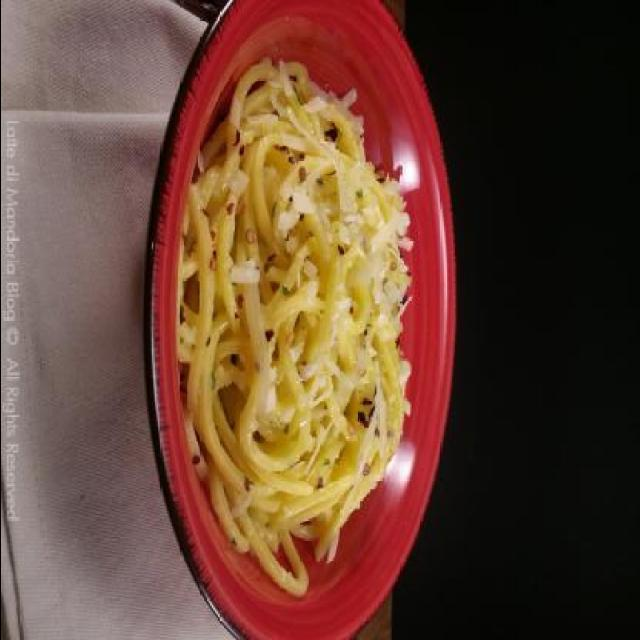Oil pasta: (145, 4, 467, 640)
